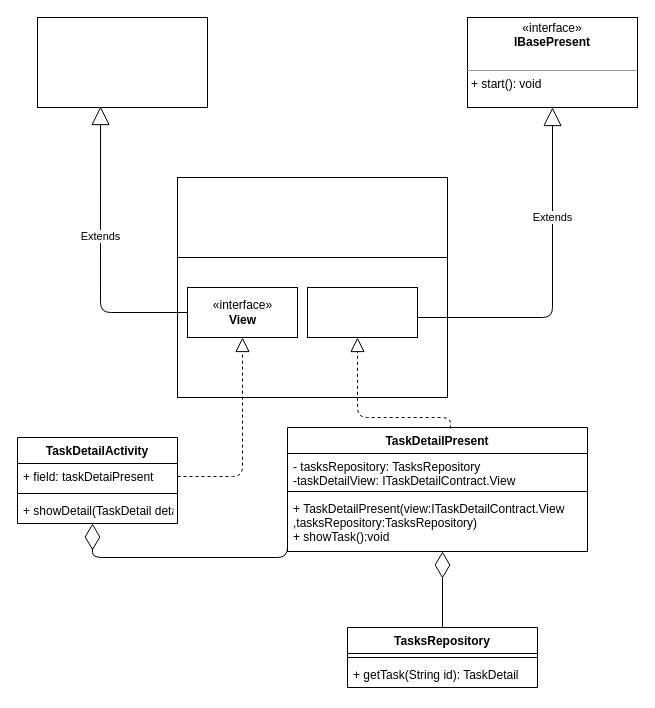
Some shapes in this 655 by 708 pixel diagram are drawn without their labels. The shapes that lost their labels are listed below. From the top down, each one's centre as x and y in pixels, then its label:
point 122,62: «interface» IBaseView<T> + setPresent(T present): void
point 312,217: «interface» ITaskDetailContract
point 362,312: «interface» Present
